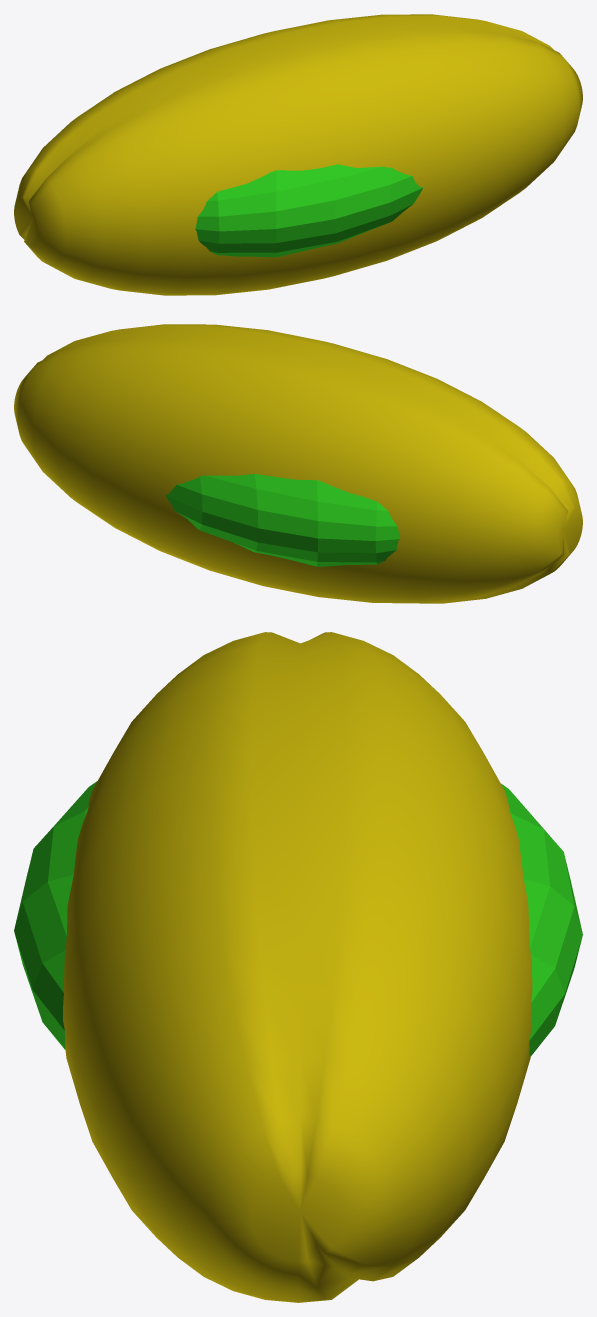
Rendered from Farming_item.fbx.
3 views of the same model, one above another, from view 1: azimuth 30°, elevation 25°; view 2: azimuth 150°, elevation 25°; view 3: azimuth 270°, elevation 25° (orthographic). The views are drawn at different scales.
Parts seen in each view (by area): view 1: WheatSeed, PumskinSeed; view 2: WheatSeed, PumskinSeed; view 3: WheatSeed, PumskinSeed.
Part boxes in pixels (x1,y1,x2,y2): WheatSeed: (14,14,582,295); PumskinSeed: (195,164,422,257); WheatSeed: (14,324,582,603); PumskinSeed: (165,474,399,566); WheatSeed: (63,632,532,1302); PumskinSeed: (14,781,582,1056).
Bounding box in the file's own units: 0.155 × 0.0737 × 0.0619.
